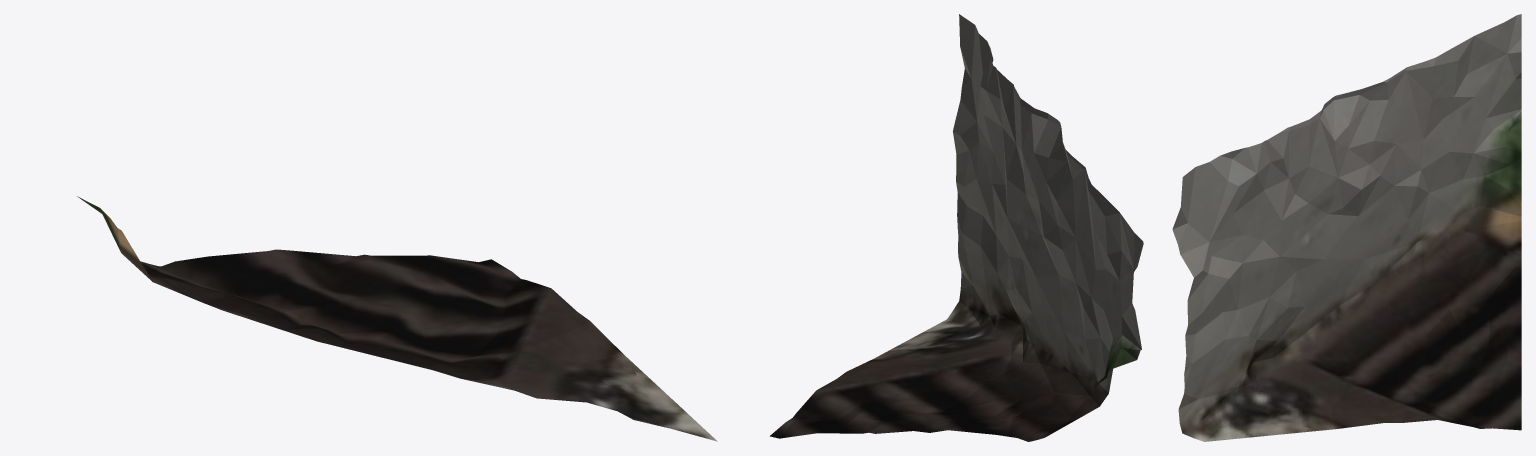
The picture shows the model from 3 angles, left to right: view 1: azimuth 30°, elevation 25°; view 2: azimuth 150°, elevation 25°; view 3: azimuth 270°, elevation 25°; orthographic projection. The views are drawn at different scales.
Size of the model in its own units: 0.368 by 0.2786 by 0.333.
1 material, 1 textured.
